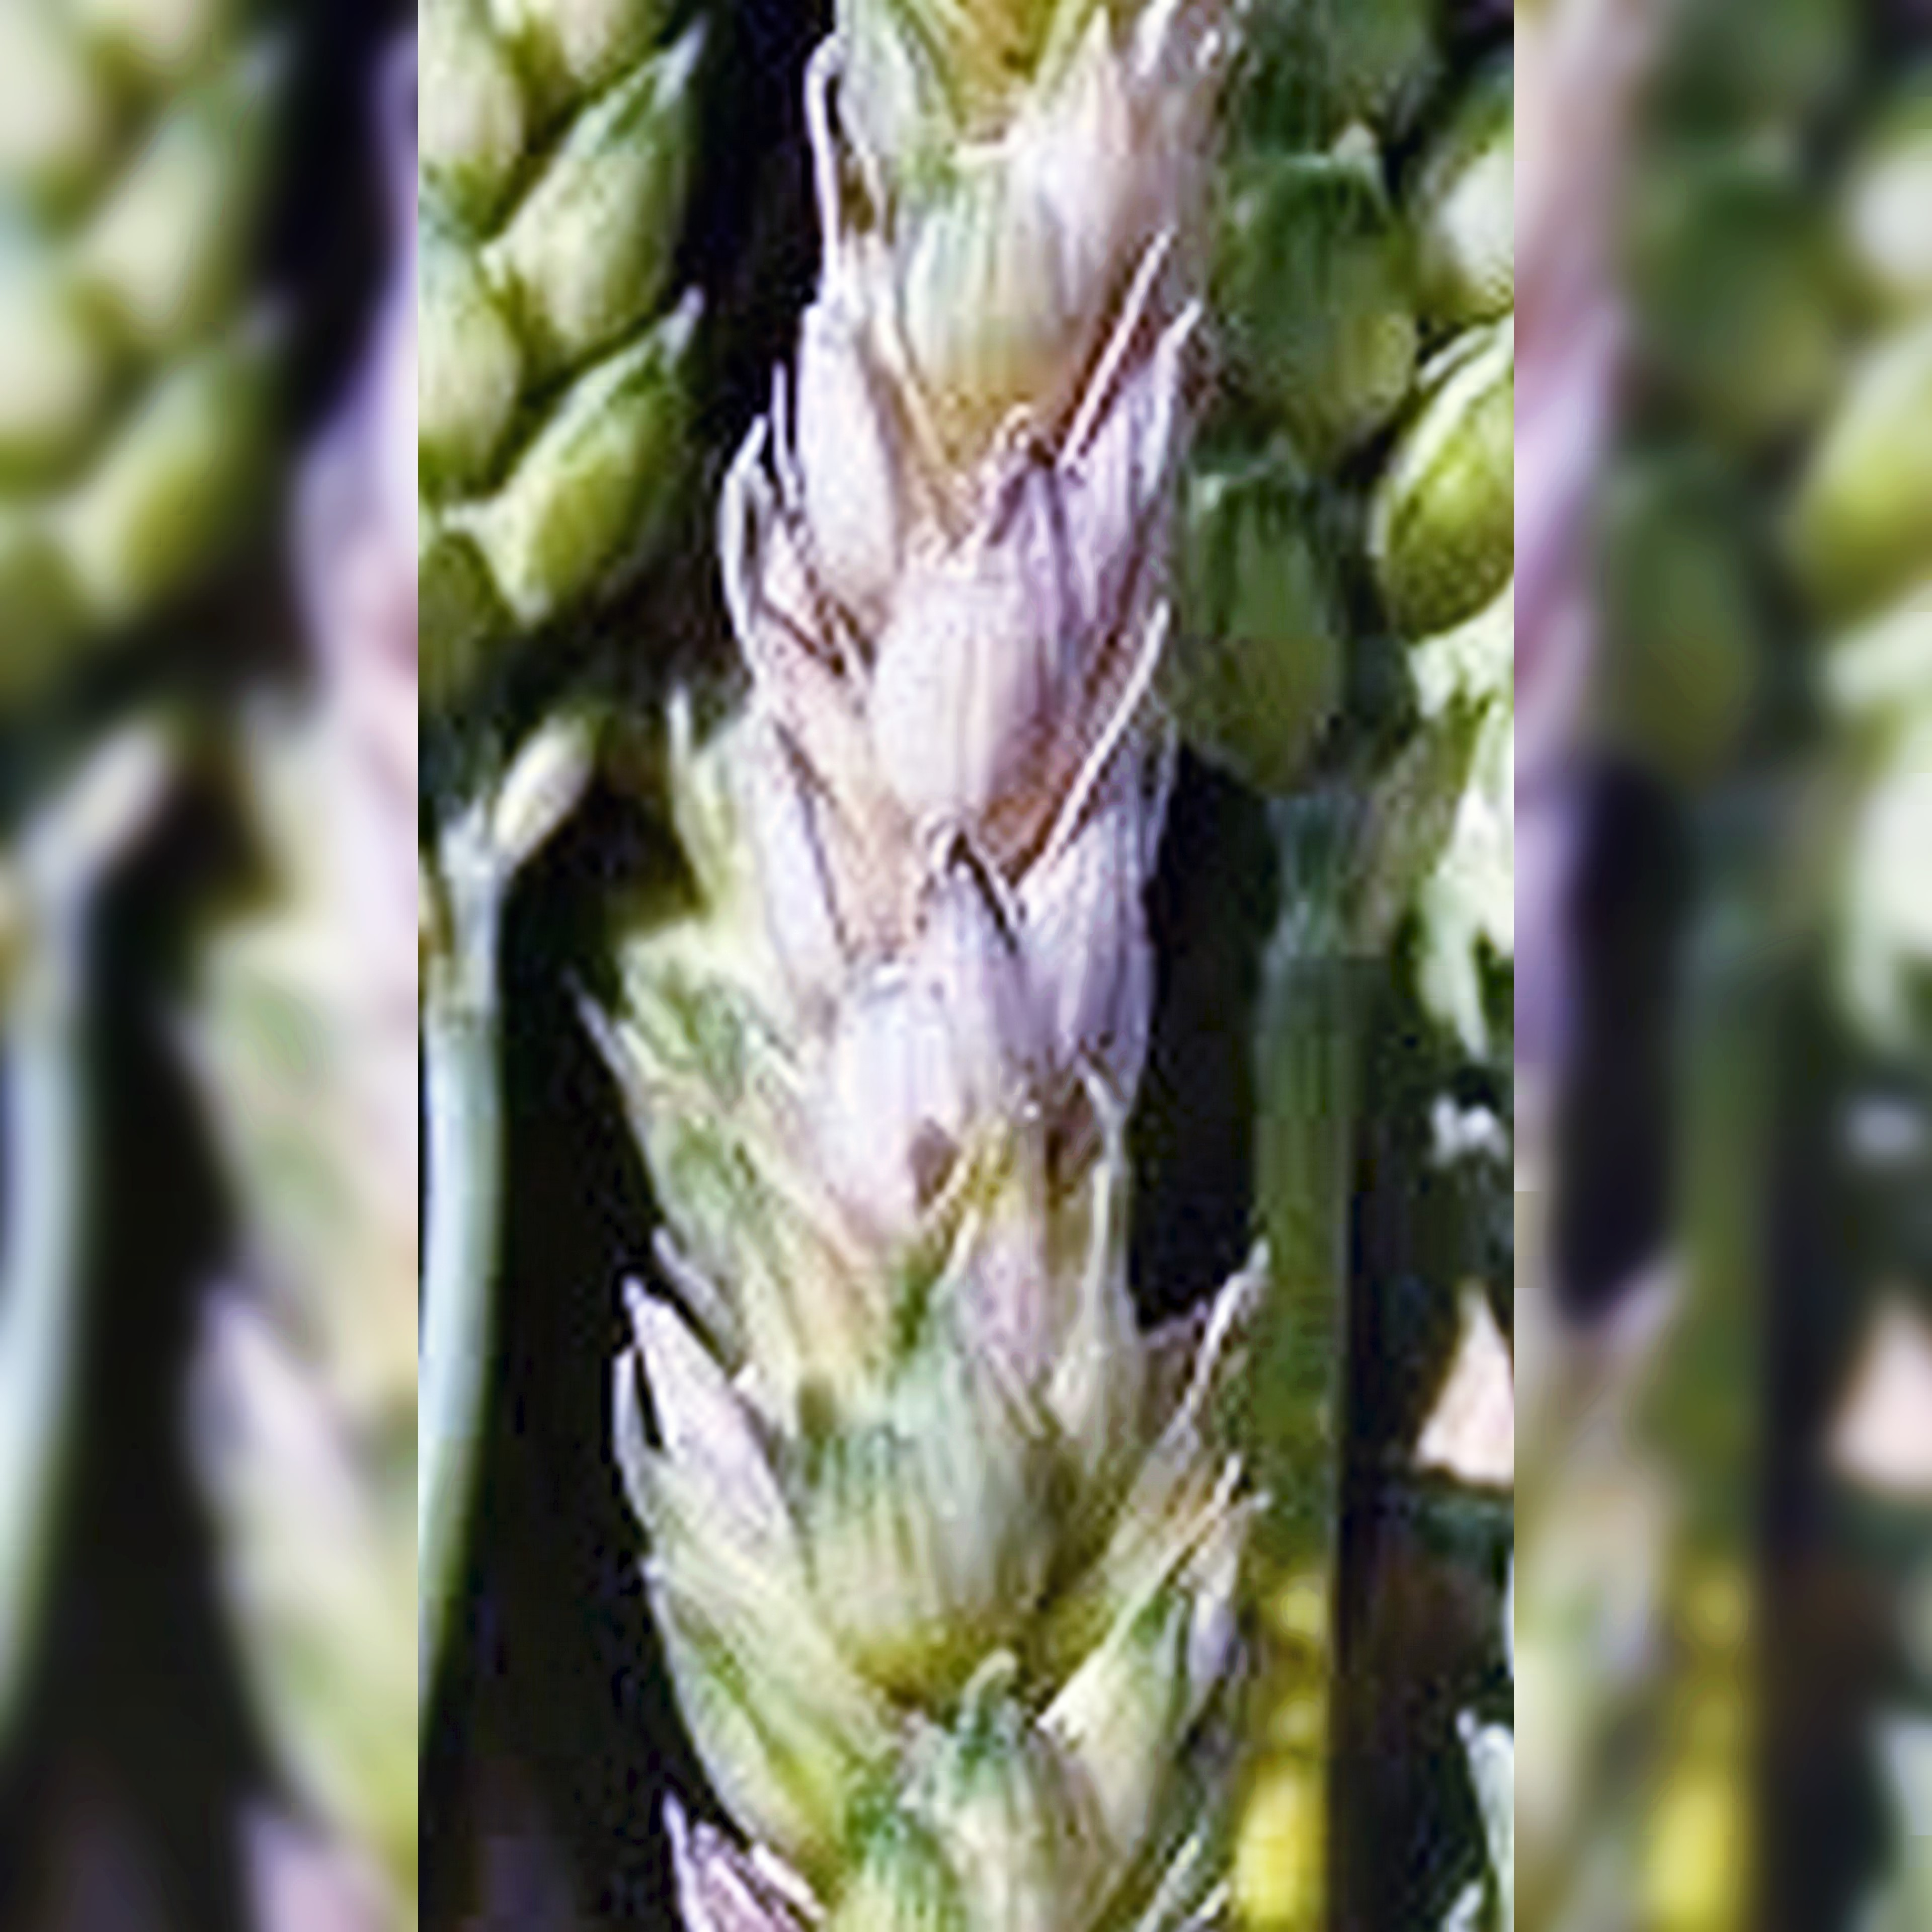Wheat scab: (586, 28, 1242, 1861)
